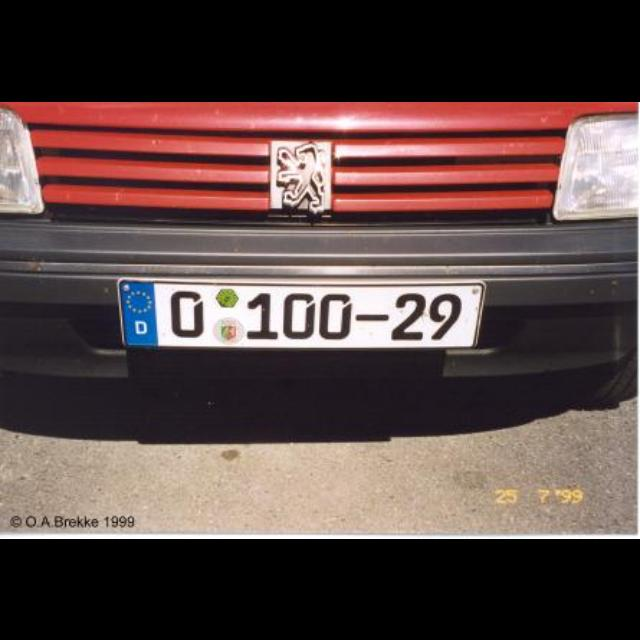d_license_plate: (119, 280, 484, 344)
